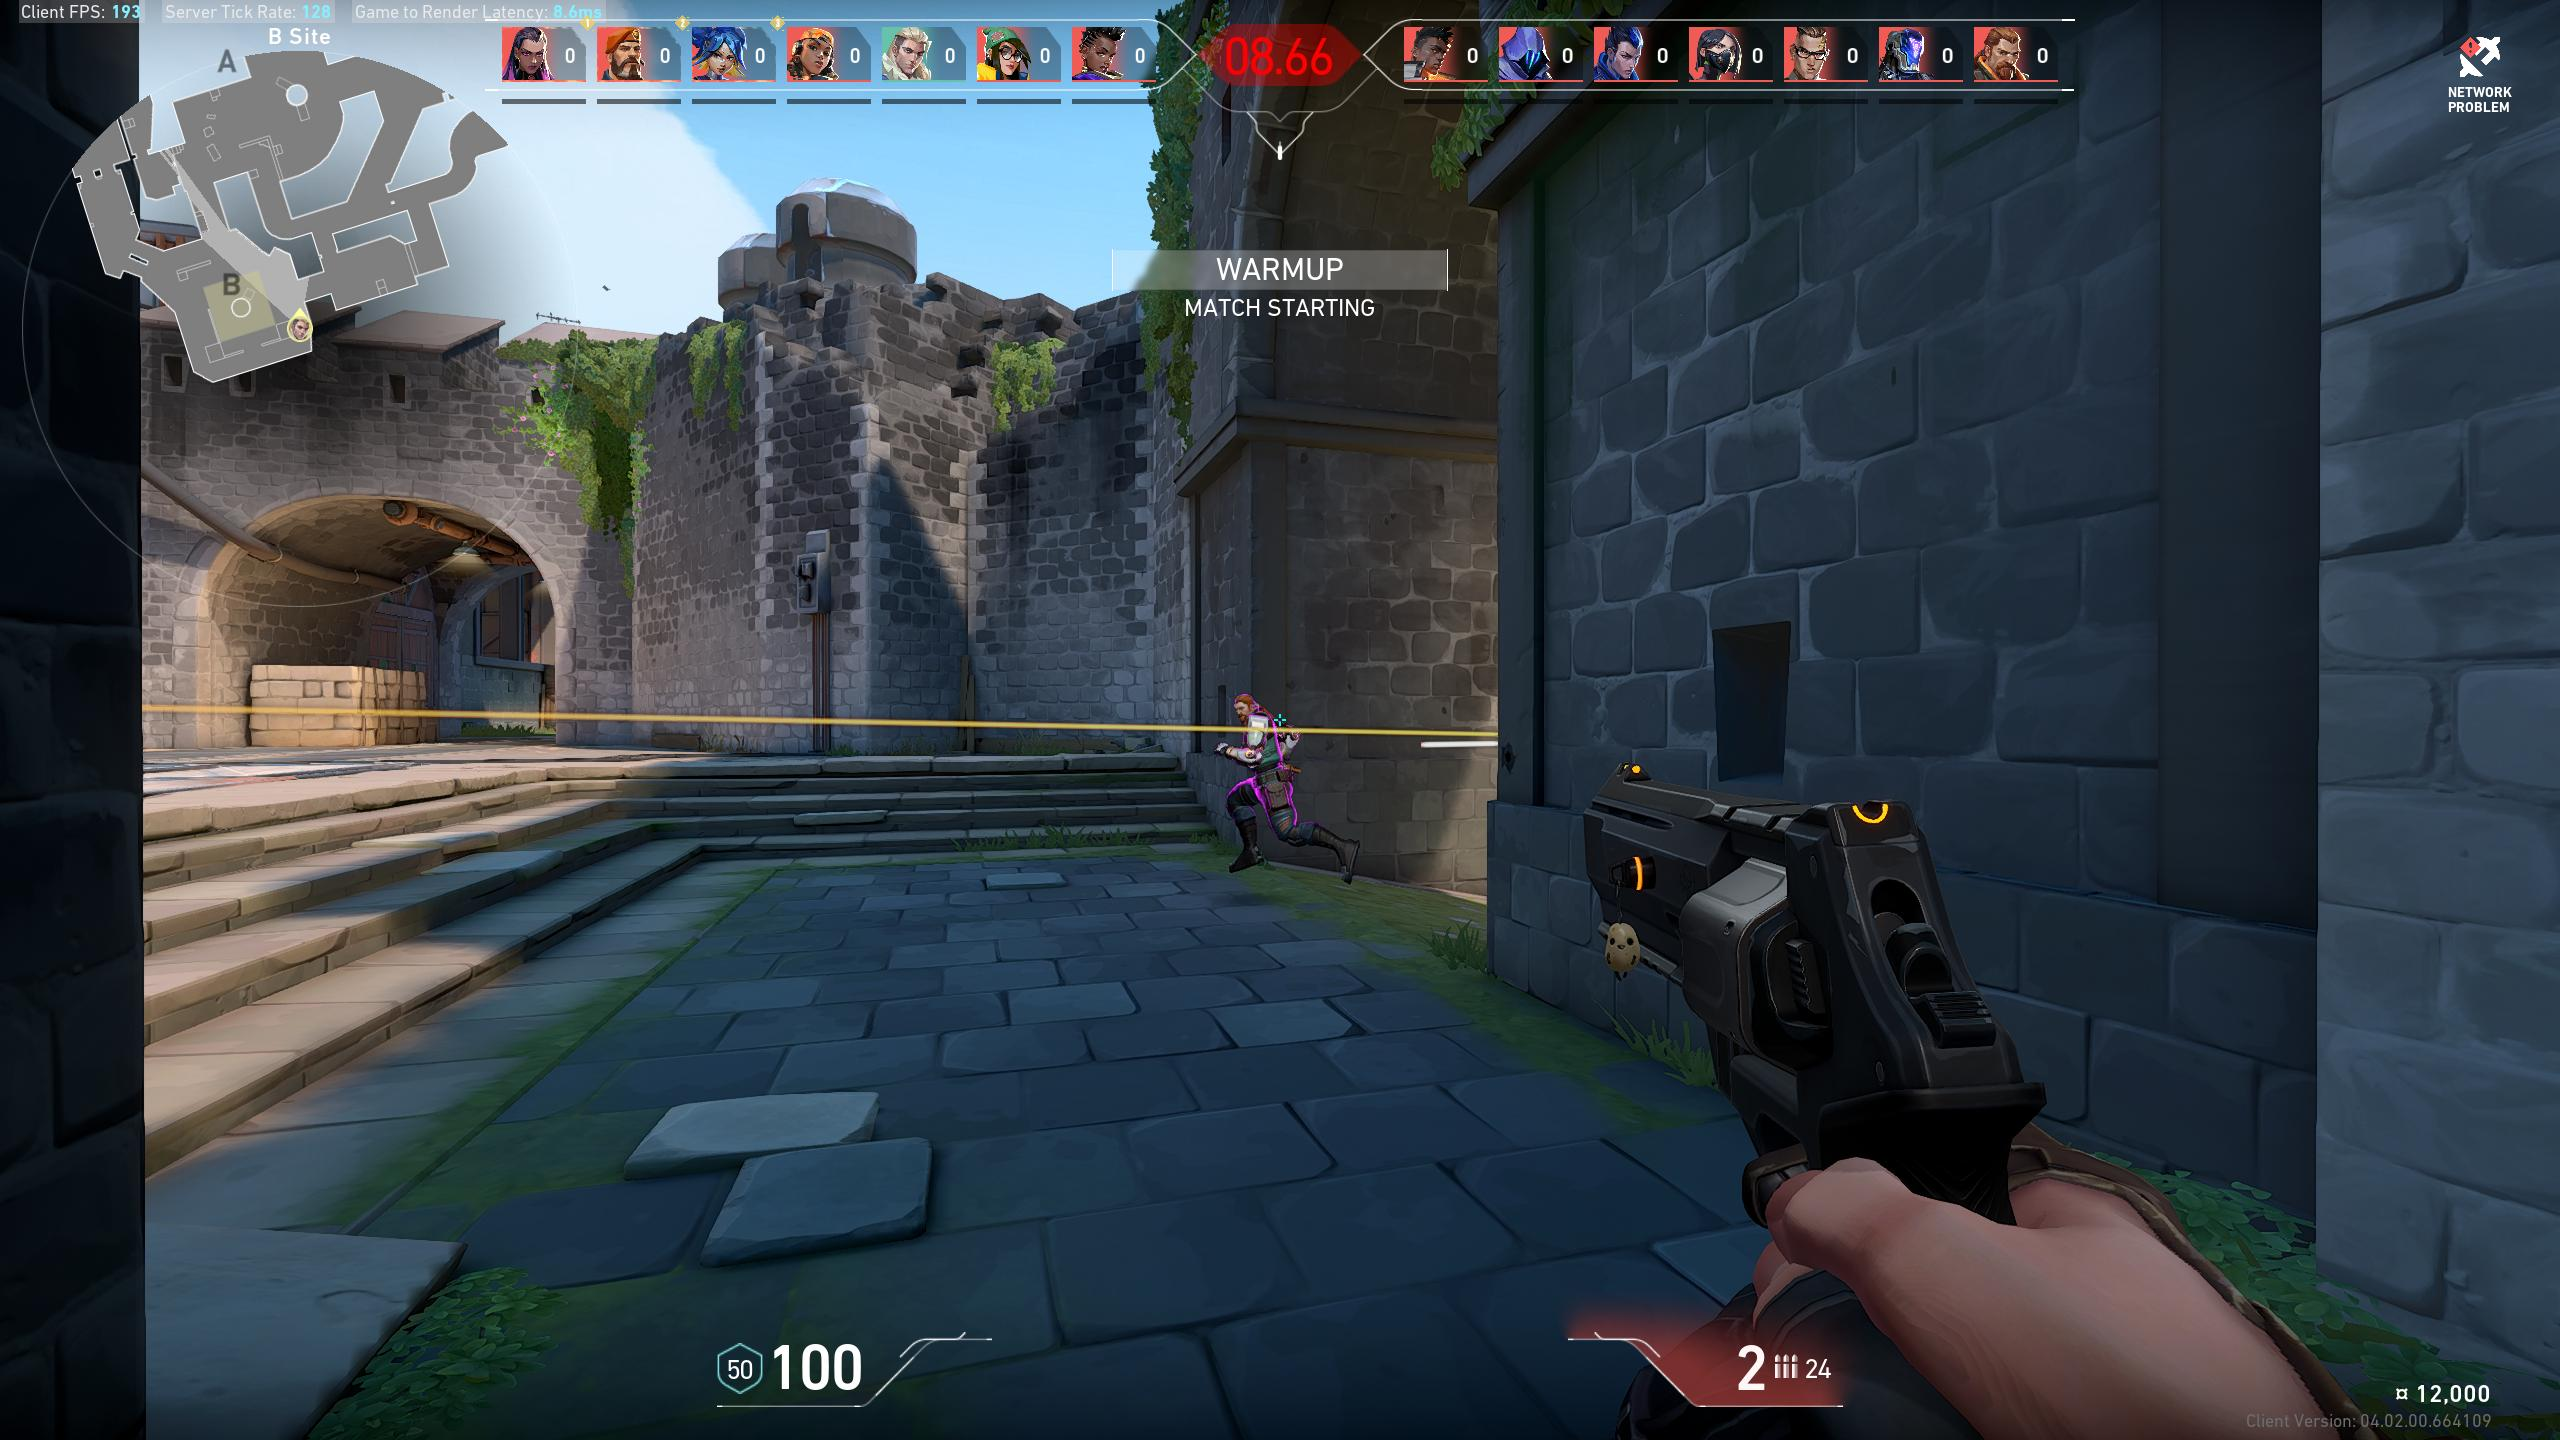enemyBody: (1254, 721, 1278, 777)
enemyHead: (1236, 702, 1252, 716)
